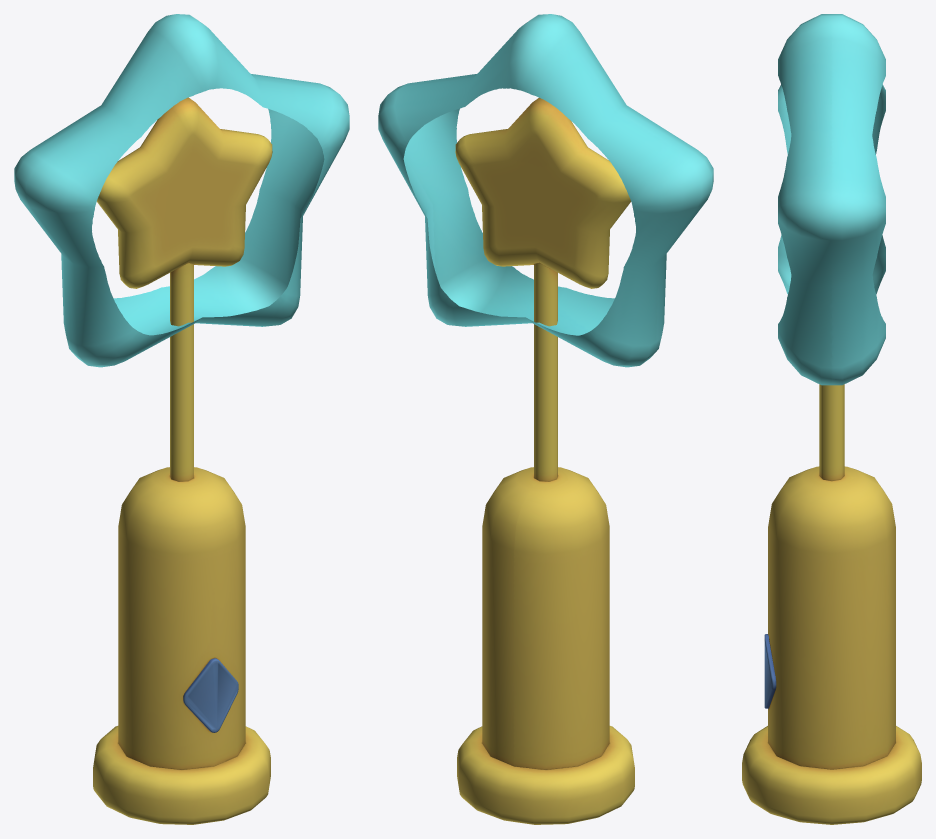
Rendered from StarDecoLight.fbx.
The picture shows the model from 3 angles, left to right: view 1: azimuth 30°, elevation 25°; view 2: azimuth 150°, elevation 25°; view 3: azimuth 270°, elevation 25°; orthographic projection.
Visible parts, largest first — view 1: StarDecoLight; view 2: StarDecoLight; view 3: StarDecoLight.
Boxes of the visible parts, <box> form: StarDecoLight: <box>14,14,349,824</box>; StarDecoLight: <box>378,14,713,824</box>; StarDecoLight: <box>742,14,921,824</box>.
Bounding box in the file's own units: 166 × 380 × 80.
